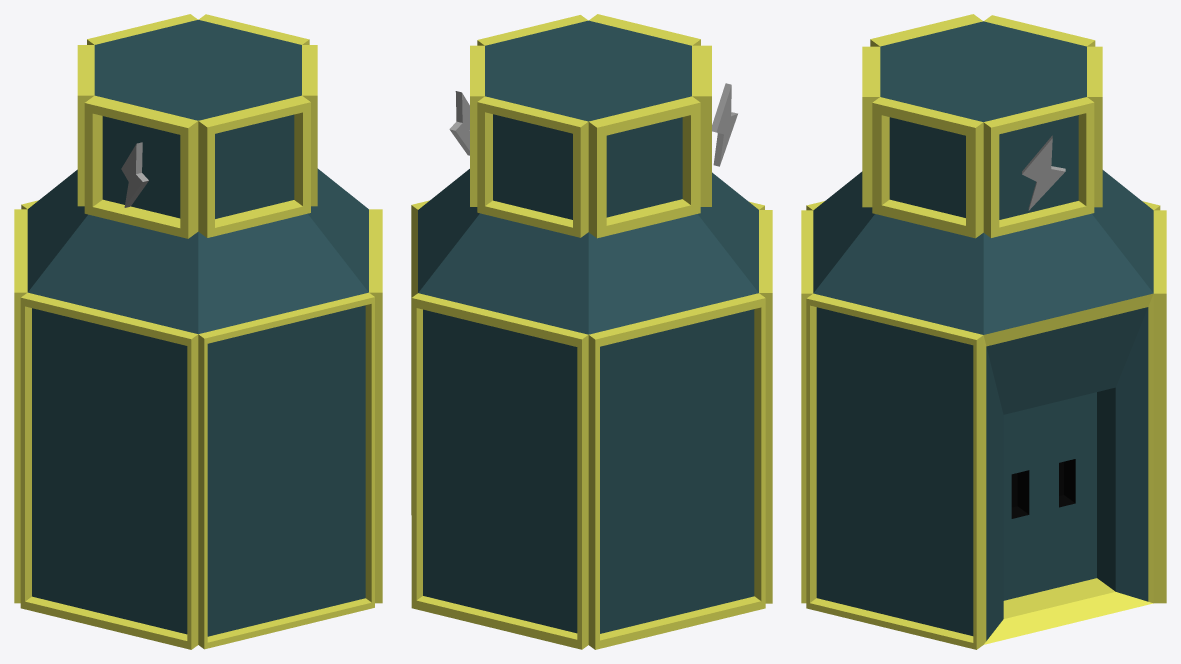
File: Housev1.fbx
The picture shows the model from 3 angles, left to right: view 1: azimuth 30°, elevation 25°; view 2: azimuth 150°, elevation 25°; view 3: azimuth 270°, elevation 25°; orthographic projection.
Visible parts, largest first — view 1: house1, lightling2; view 2: house1, lightling2, lightling1; view 3: house1, lightling1.
Part boxes in pixels (x1,y1,x2,y2): house1: [14, 14, 382, 649]; lightling2: [121, 142, 148, 207]; house1: [411, 14, 772, 649]; lightling2: [712, 83, 737, 166]; lightling1: [449, 91, 469, 155]; house1: [801, 14, 1166, 649]; lightling1: [1022, 135, 1065, 210].
Size of the model in its own units: 11.52 by 14.94 by 10.1.
